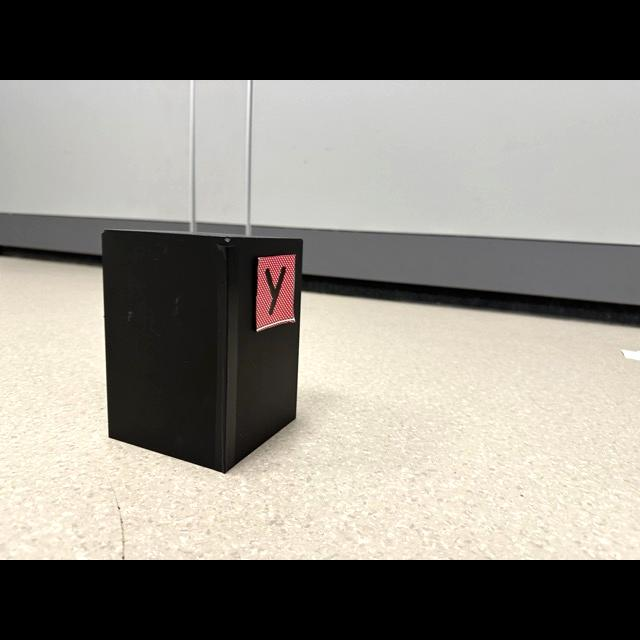Y: (265, 267, 285, 313)
